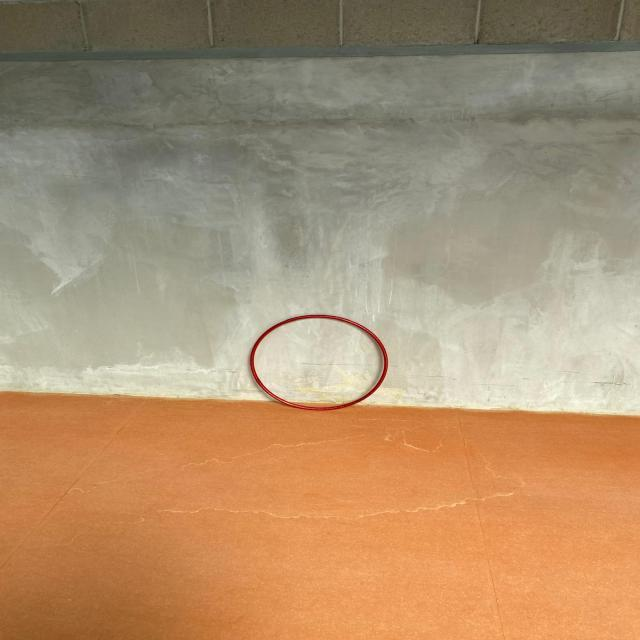Circle: (247, 312, 391, 413)
